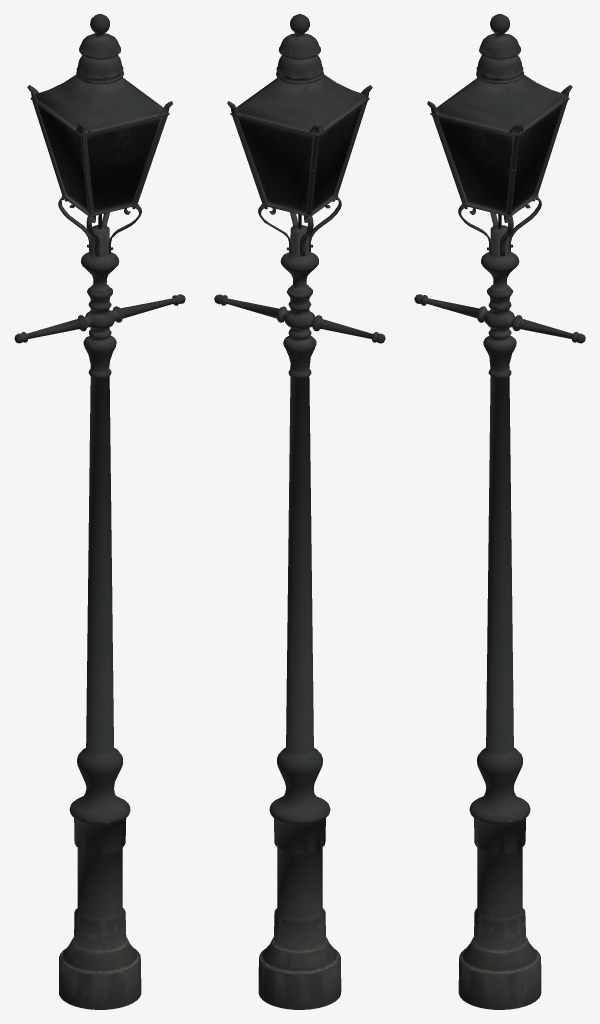
File: street_lamp_01.glb
3 renders of one model, left to right at view 1: azimuth 30°, elevation 25°; view 2: azimuth 150°, elevation 25°; view 3: azimuth 330°, elevation 25°, orthographic.
Visible parts, largest first — view 1: street_lamp_01; view 2: street_lamp_01; view 3: street_lamp_01.
Part boxes in pixels (x1,y1,x2,y2): street_lamp_01: (14,14,185,1009); street_lamp_01: (214,14,385,1009); street_lamp_01: (414,14,585,1009).
Bounding box in the file's own units: 0.7035 × 3.87 × 0.3856.
Materials: 2 (2 with a texture image).
